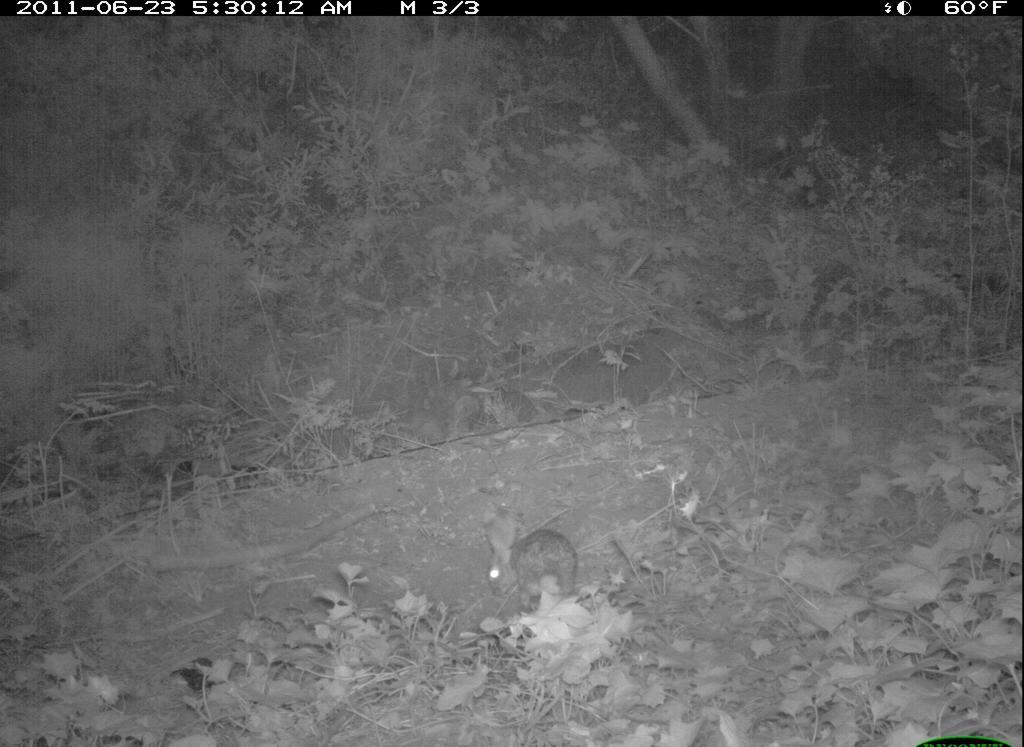rabbit: (486, 516, 584, 619)
